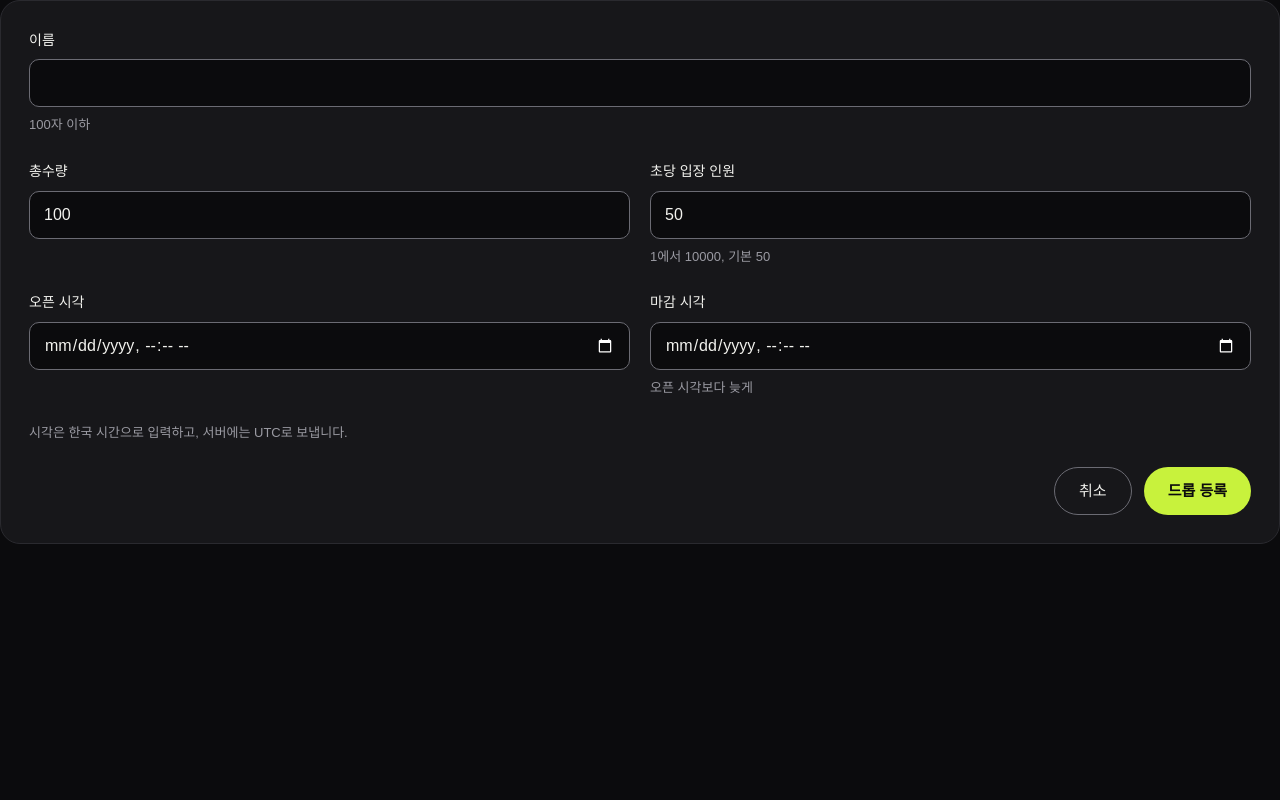
Test case: DropForm › 503이면 경고에 Retry-After 초 뒤 다시 시도하라는 안내를 붙인다
What coordinates should you click on to do the following:
click the button "드롭 등록"
I would click on:
 (1197, 491)
Its box is [1144,467,1251,515].
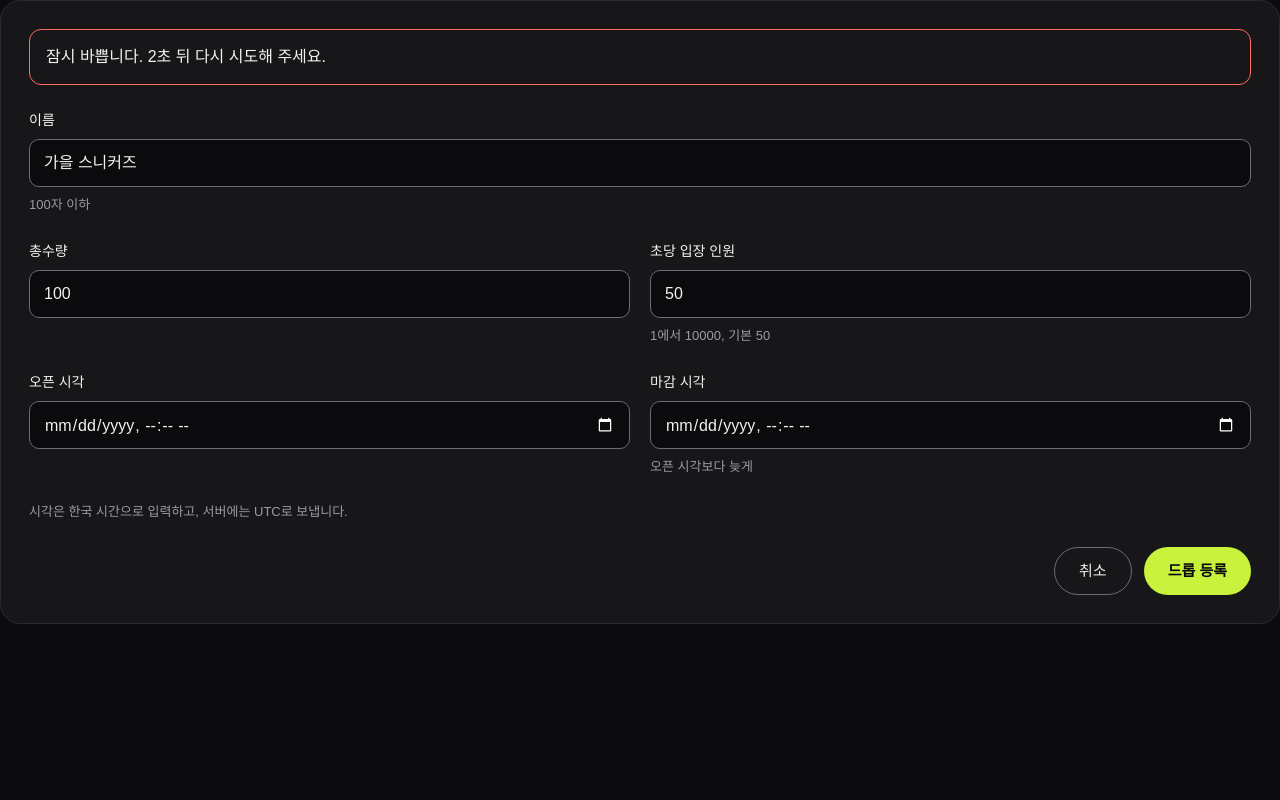
Expected: the message reads "잠시 바쁩니다. 2초 뒤 다시 시도해 주세요.", [46,48,326,65]
